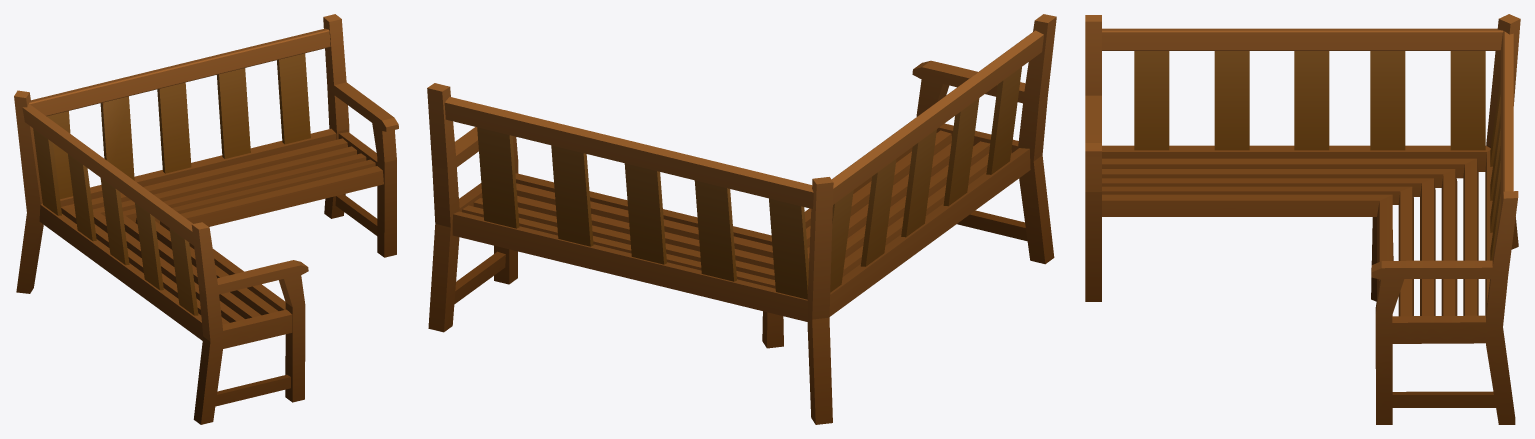
File: Park_Bench_Corner_In.fbx
3 views of the same model, side by side, from view 1: azimuth 30°, elevation 25°; view 2: azimuth 150°, elevation 25°; view 3: azimuth 270°, elevation 25° (orthographic). The views are drawn at different scales.
Visible parts, largest first — view 1: Park_Bench_Corner_In; view 2: Park_Bench_Corner_In; view 3: Park_Bench_Corner_In.
Boxes of the visible parts, box(x1,y1,x2,y2) form: Park_Bench_Corner_In: box(14, 14, 398, 424); Park_Bench_Corner_In: box(427, 14, 1056, 424); Park_Bench_Corner_In: box(1085, 14, 1520, 424).
Size of the model in its own units: 187 by 107 by 187.
